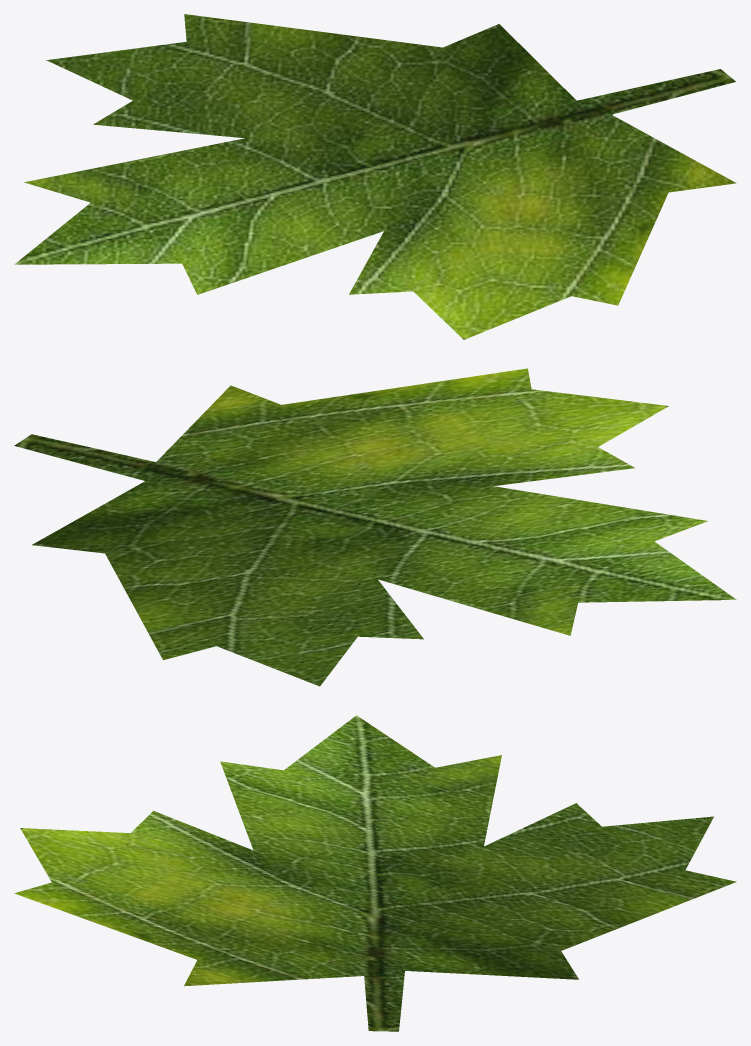
The model's file is 05.13.18_Leaf.fbx.
3 views of the same model, one above another, from view 1: azimuth 30°, elevation 25°; view 2: azimuth 150°, elevation 25°; view 3: azimuth 270°, elevation 25° (orthographic). The views are drawn at different scales.
Visible parts, largest first — view 1: polySurface2; view 2: polySurface2; view 3: polySurface2.
Part boxes in pixels (bbox=[...]): polySurface2: bbox=[14, 14, 736, 339]; polySurface2: bbox=[14, 368, 736, 686]; polySurface2: bbox=[14, 715, 736, 1031].
Bounding box in the file's own units: 3.07 × 0 × 2.97.
Materials: 1 (1 with a texture image).
